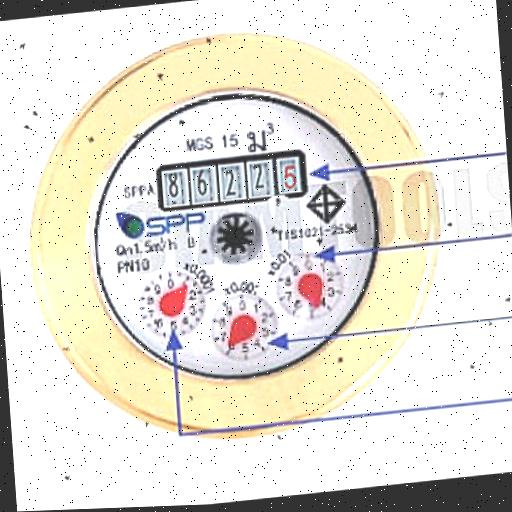2: (222, 166, 241, 200), (252, 164, 269, 198)
5: (282, 161, 299, 193)
6: (194, 170, 211, 204)
8: (165, 173, 184, 207)
border_water_meter_number: (156, 149, 310, 213)
